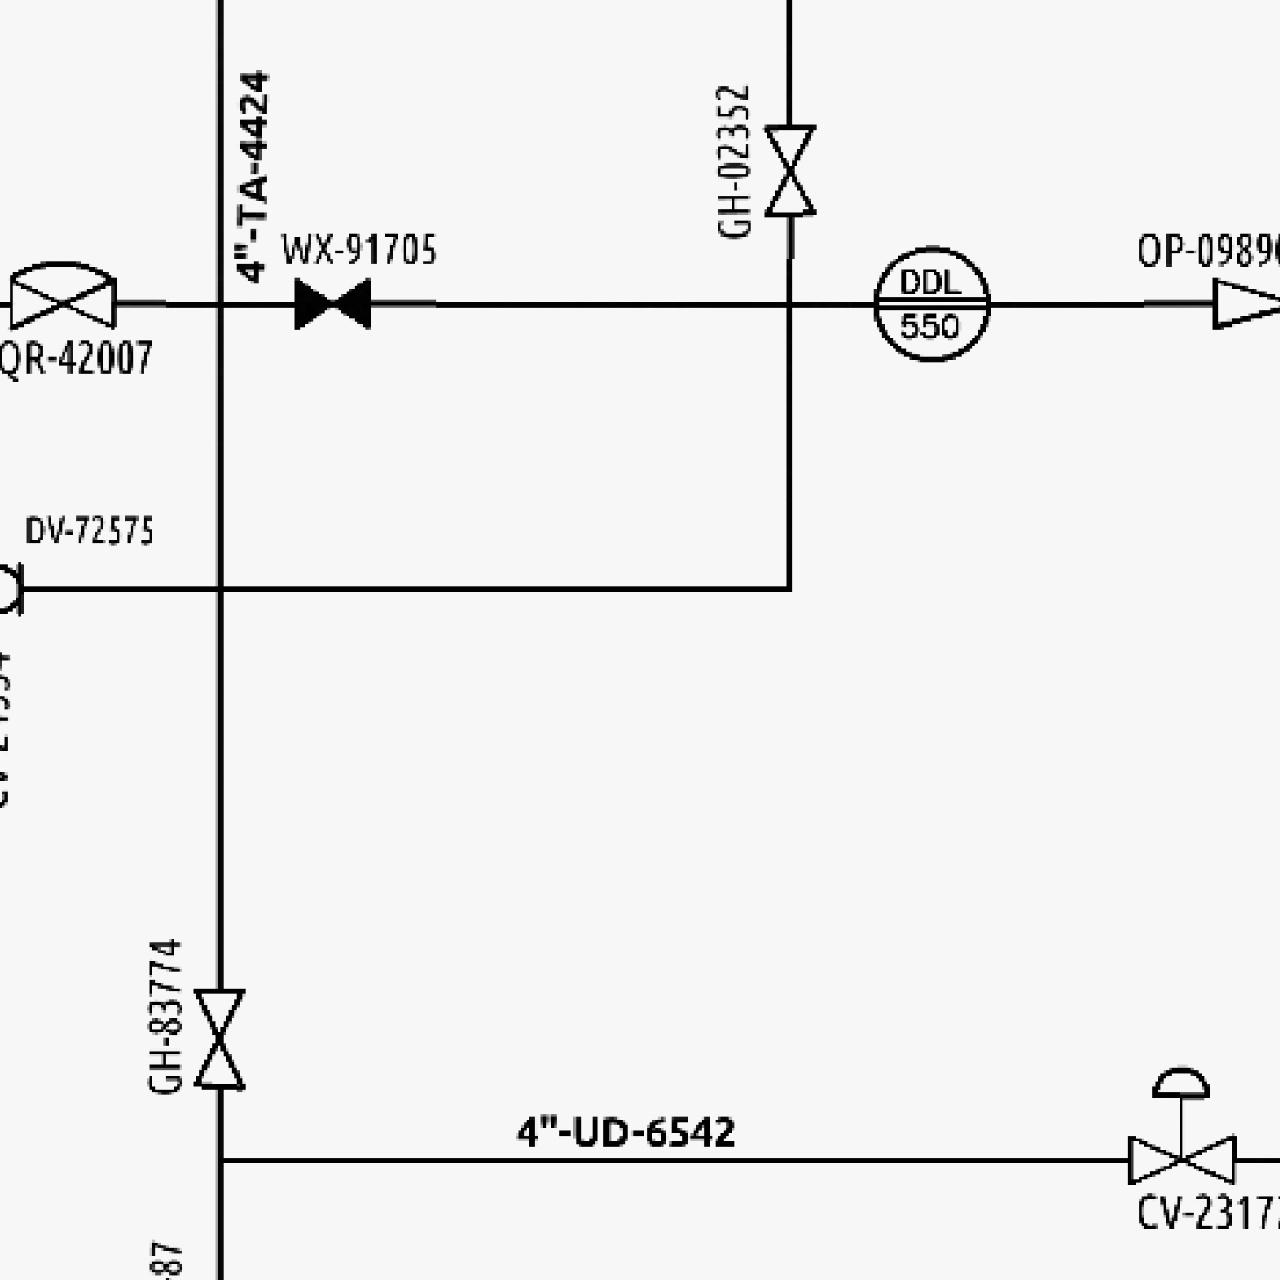Control-Panel: (867, 240, 995, 366)
